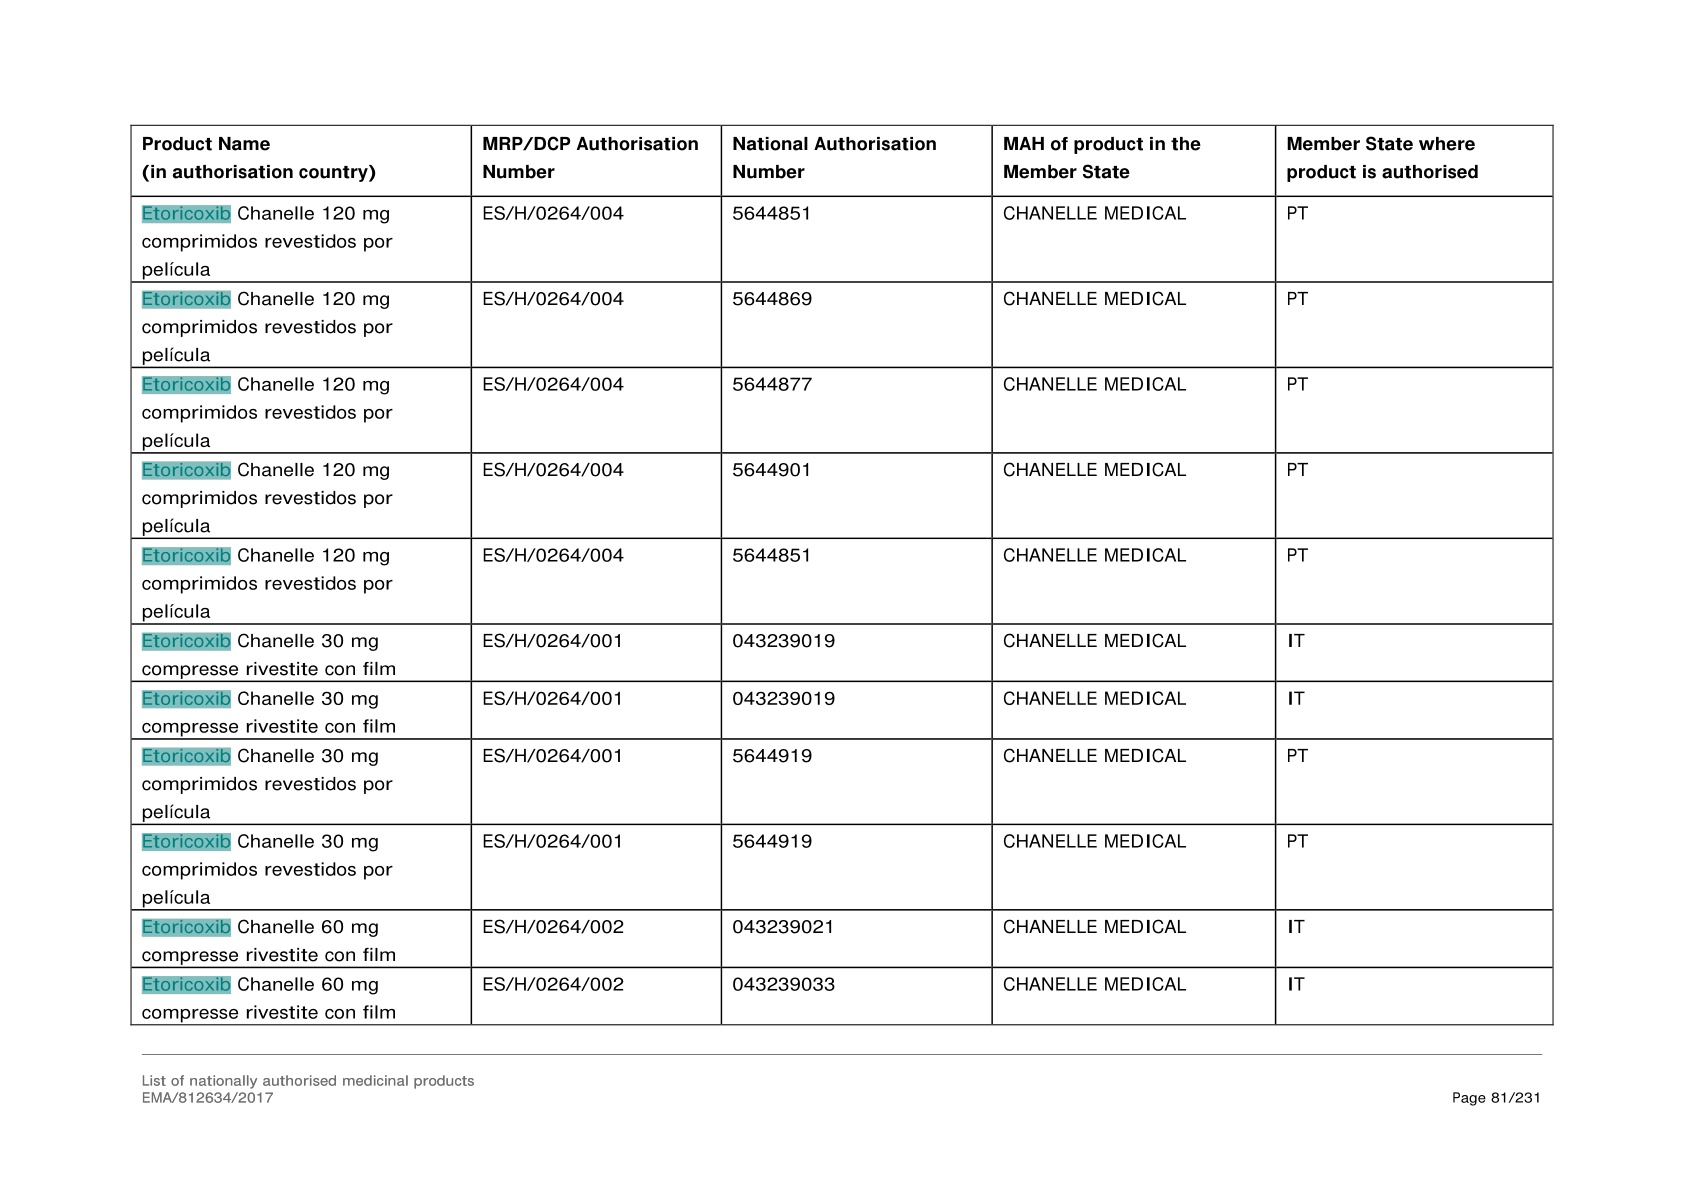full_lined: (130, 124, 1554, 1026)
